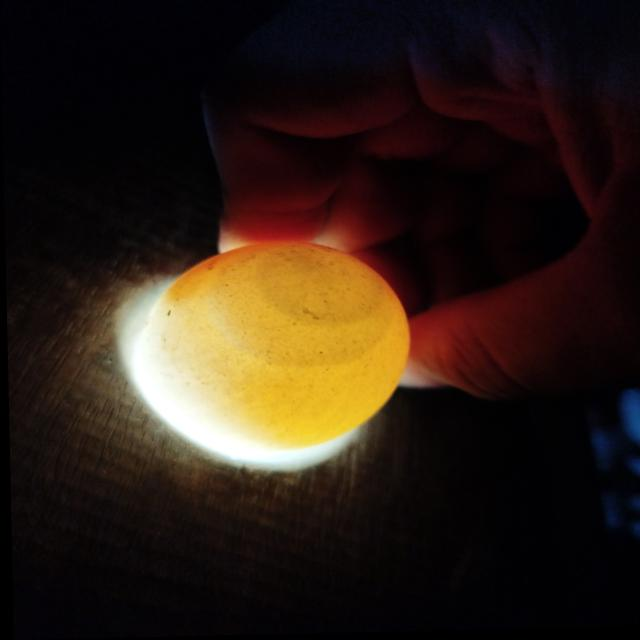Camara de Ar: (257, 248, 384, 325)
Gema Quebrada: (165, 242, 332, 302)
